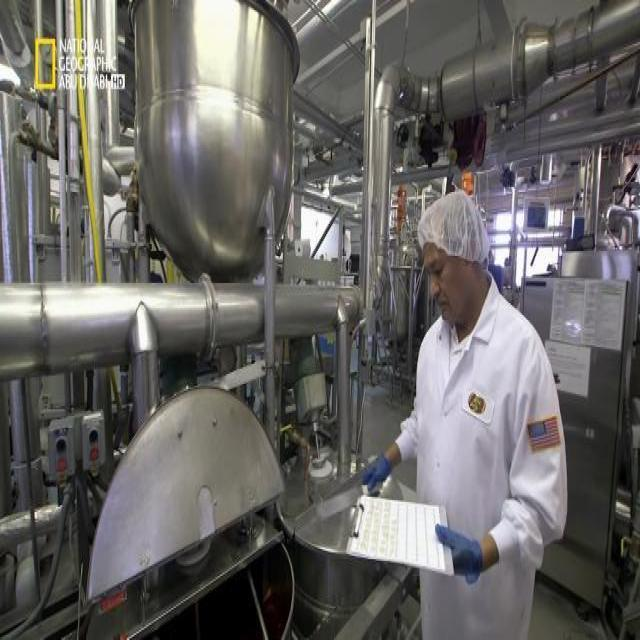gloved_hand: (439, 510, 496, 588), (352, 443, 399, 507)
